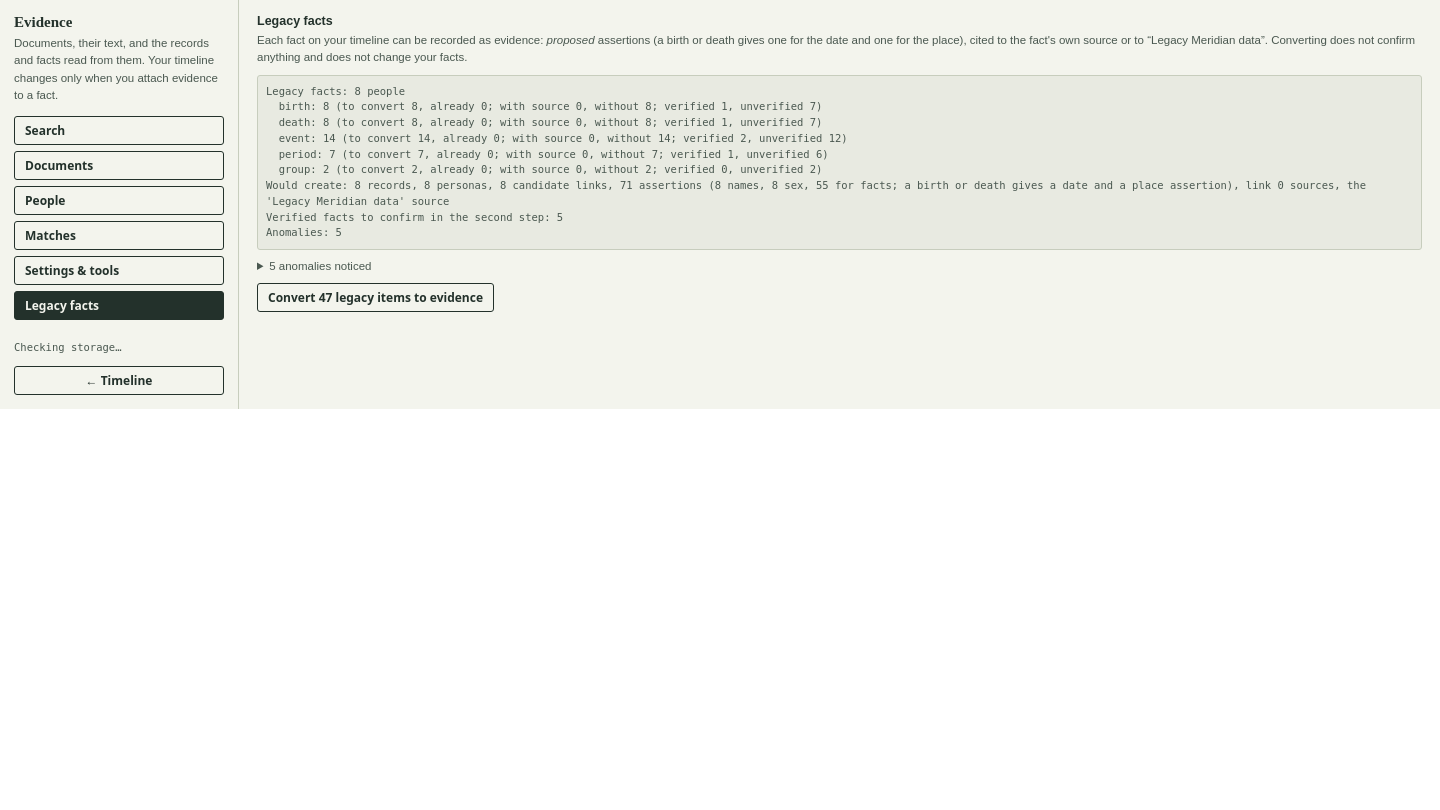
Scenario: Evidence panel: legacy facts (P4.T3, P4.T4 UI) › legacy links wait as candidates and are accepted one person at a time
Click the button "Convert 47 legacy items to evidence" at (376, 298), box [257,283,494,312]
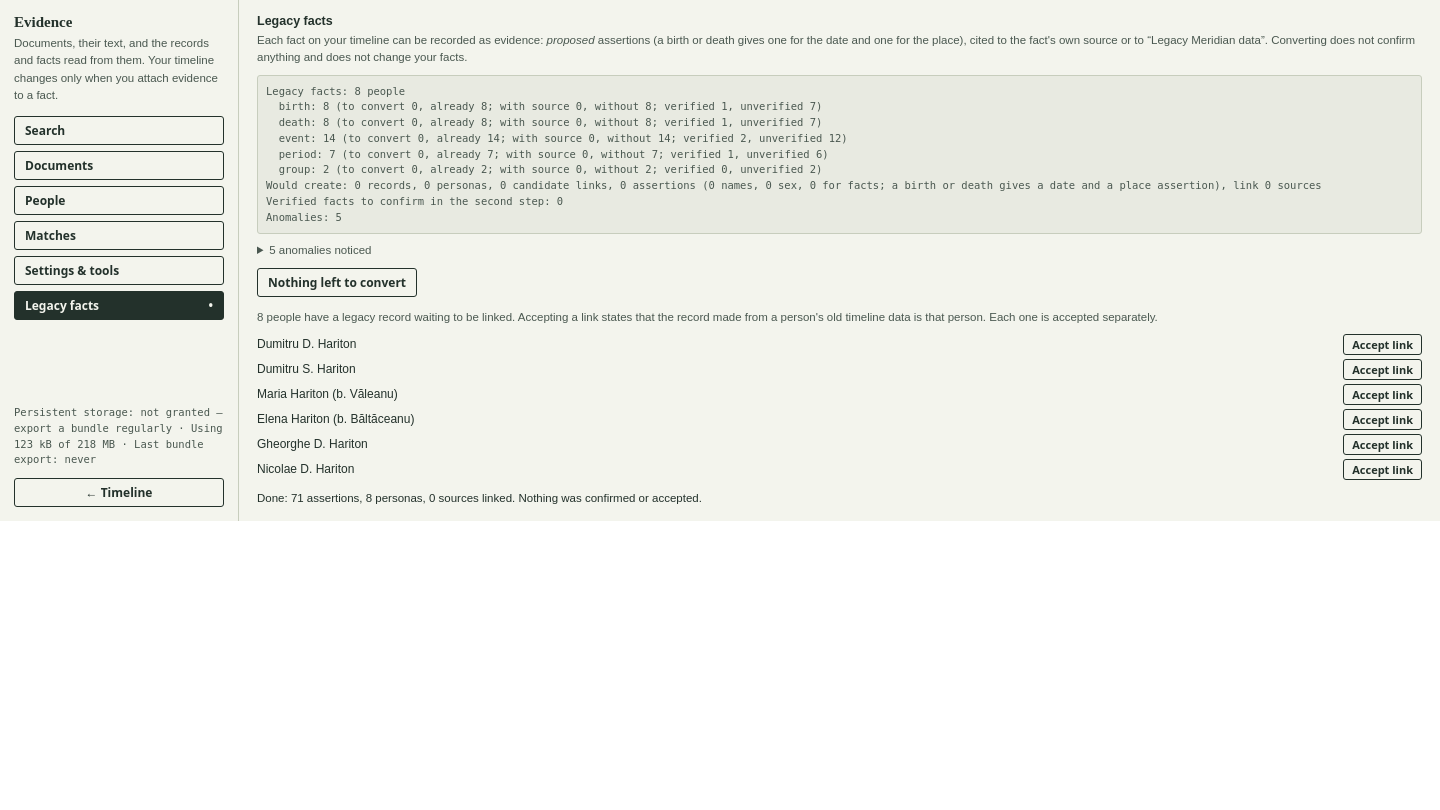
expect the element with test id "legacy-links" shows "8 people have a legacy record": met, box [257,308,1422,482]
expect the number of buttons named "Accept link for " is 8: met
Click the button with aria-label "Accept link for Dumitru D. Hariton" at (1383, 344), box [1343,334,1422,355]
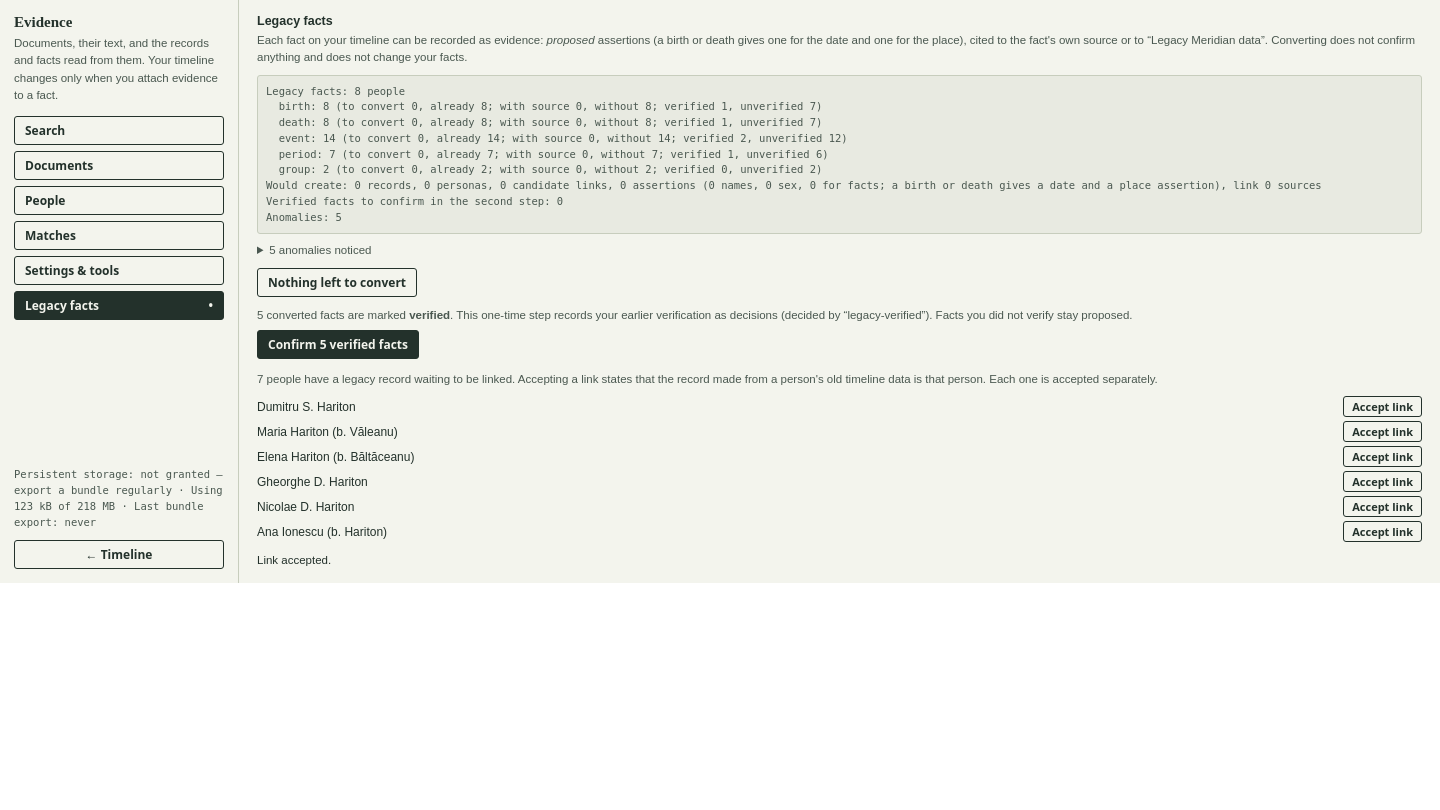
expect the number of buttons named "Accept link for " is 7: met
expect the element with test id "legacy-links" shows "7 people": met, box [257,371,1422,544]
